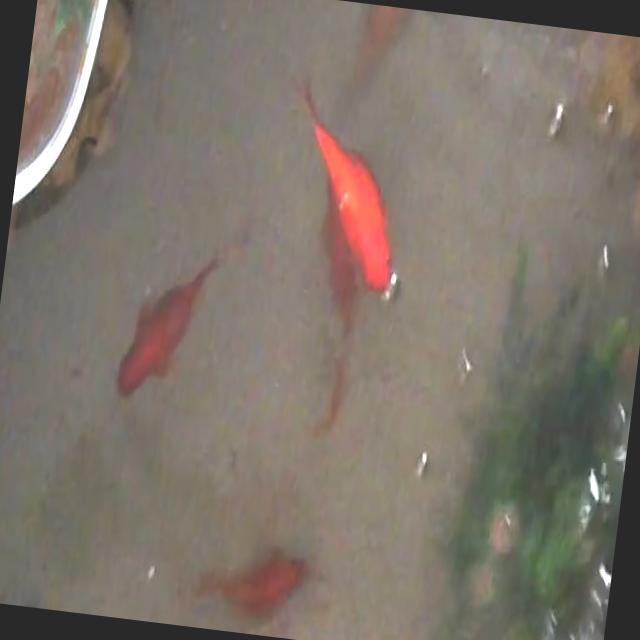fish: (266, 68, 420, 300), (112, 220, 243, 413), (284, 209, 371, 435), (192, 536, 318, 628), (346, 2, 412, 97)
